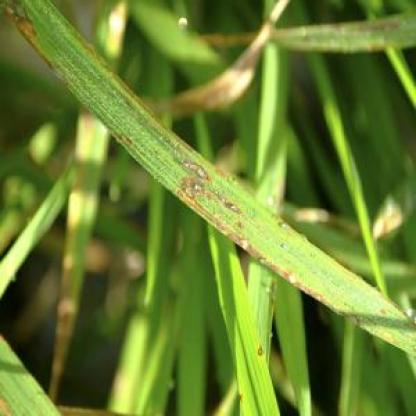Rice blast: (1, 1, 416, 375)
